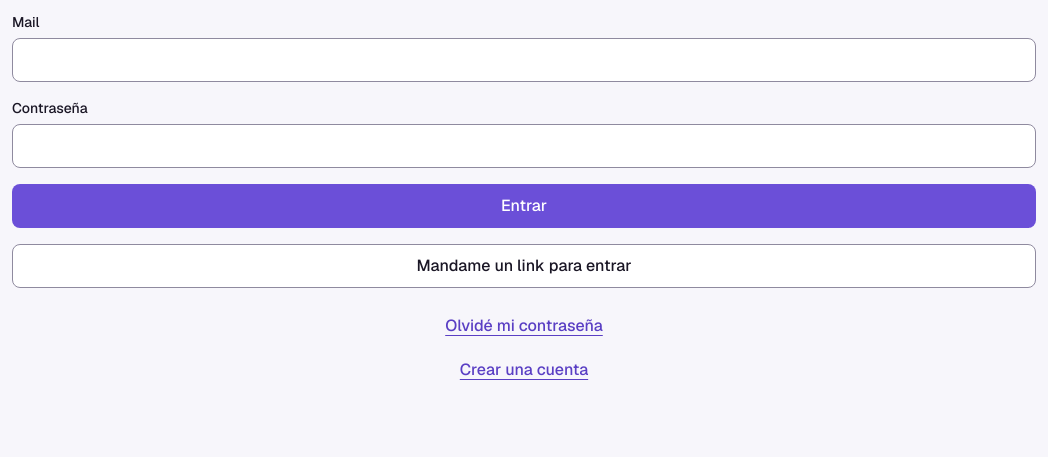
Scenario: LoginForm › requests the magic link with the typed email and confirms
The width and height of the screenshot is (1048, 457).
Type "ana@example.com" into the field labelled "Mail" at (524,60), box [12,38,1036,82]
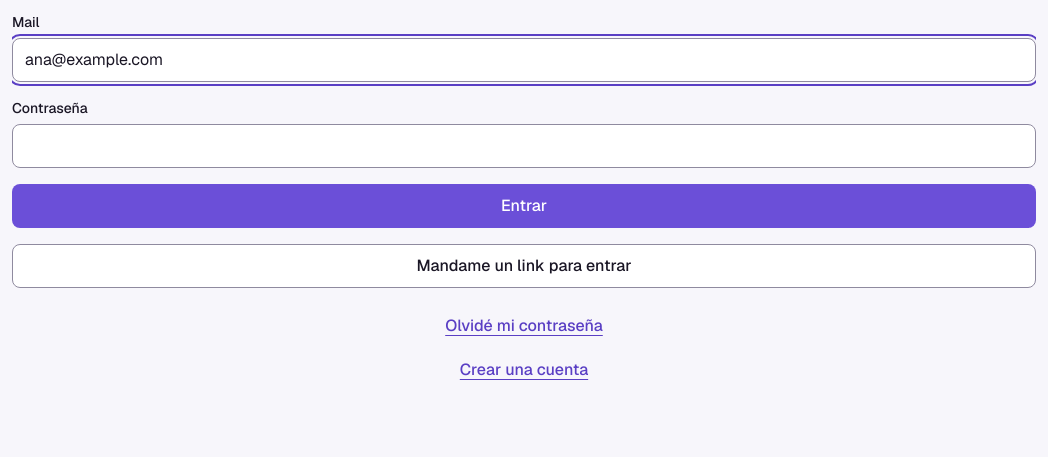
Click the button "Mandame un link para entrar" at (524,266), box [12,244,1036,288]
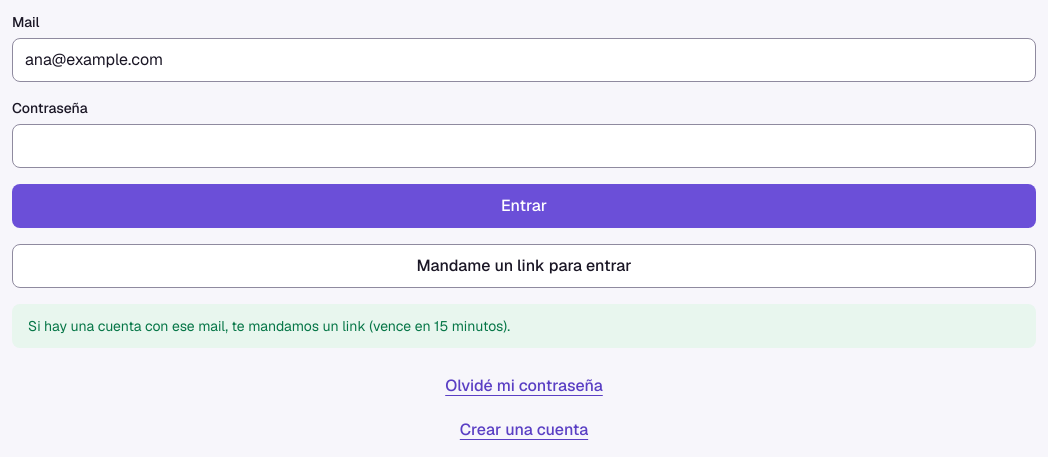
Now the message shows "vence en 15 minutos", box [28,317,510,335]
